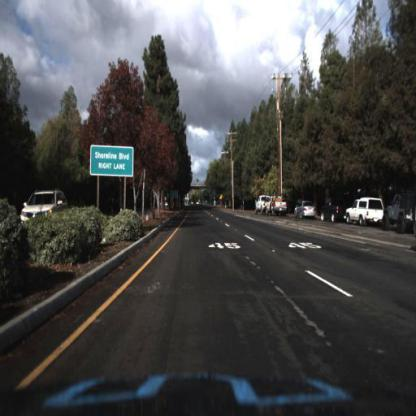car: (23, 188, 70, 230), (346, 195, 386, 226), (347, 197, 385, 228), (317, 197, 346, 222), (268, 194, 289, 217), (253, 194, 271, 219), (296, 202, 318, 221), (296, 202, 320, 218)
